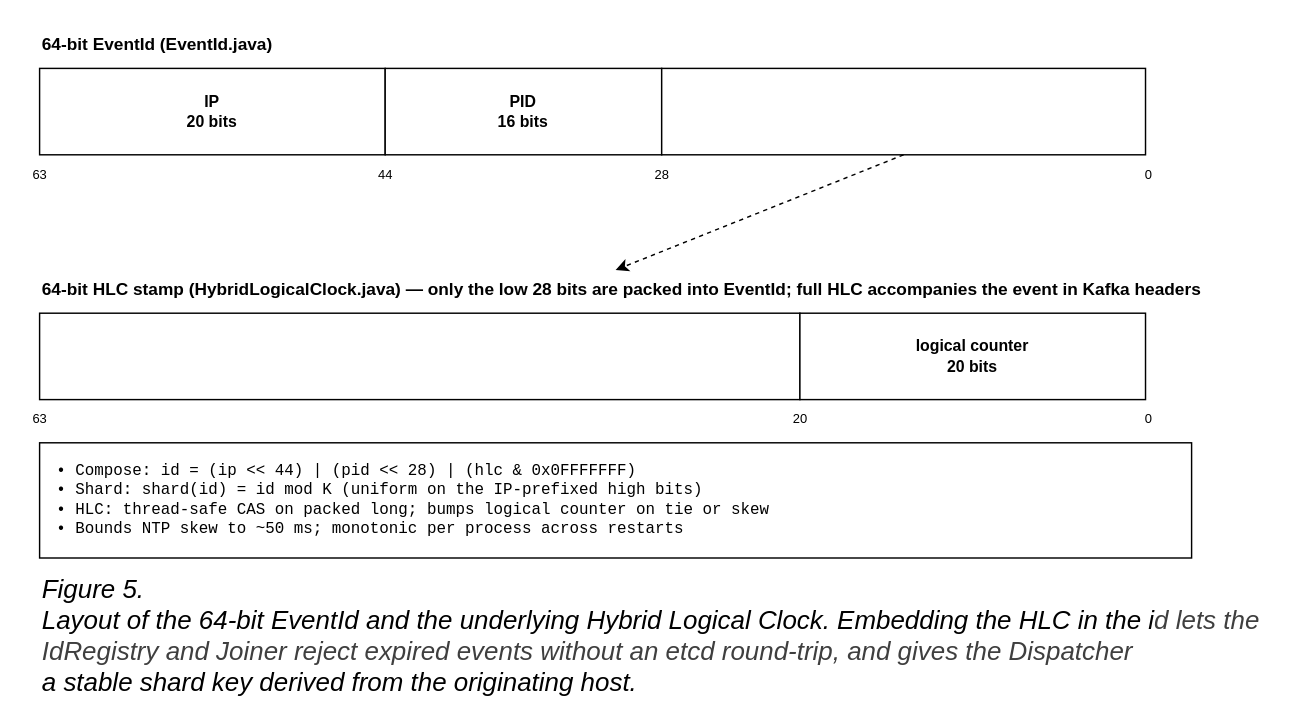
Image size: 1292x723. Some labels were removed from this diagram. Each missing label, with the centre of its shape:
"HLC 28 bits" goes at point (903, 111).
"wall time (ms since epoch) 44 bits" goes at point (419, 356).
